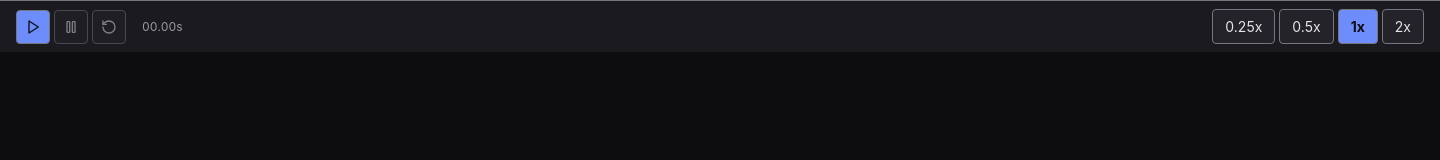
Test: TransportBar (§16/§17, M3.4/M3.5) › clicking Pause while playing transitions to paused: Play re-enables, Pause disables, Reset stays enabled
Click the button named "Play".
click(33, 26)  # box top-left (16, 10), bottom-right (50, 44)
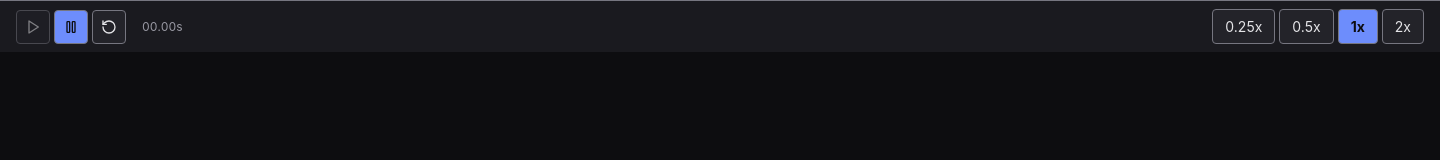
Click the button named "Pause".
click(71, 26)  # box top-left (54, 10), bottom-right (88, 44)
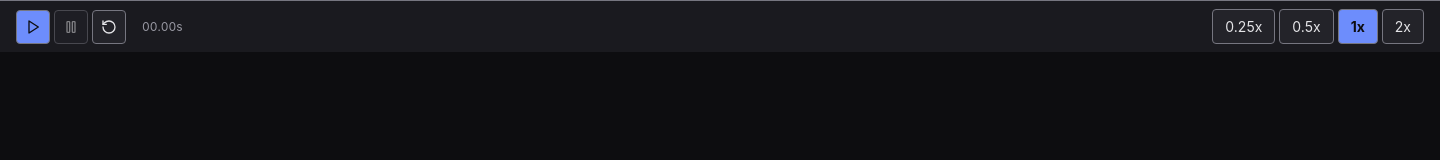
Expected: the button named "Reset" is enabled, top-left (92, 10), bottom-right (126, 44)
Expected: the button named "Play" is enabled, top-left (16, 10), bottom-right (50, 44)
Expected: the button named "Pause" is disabled, top-left (54, 10), bottom-right (88, 44)
